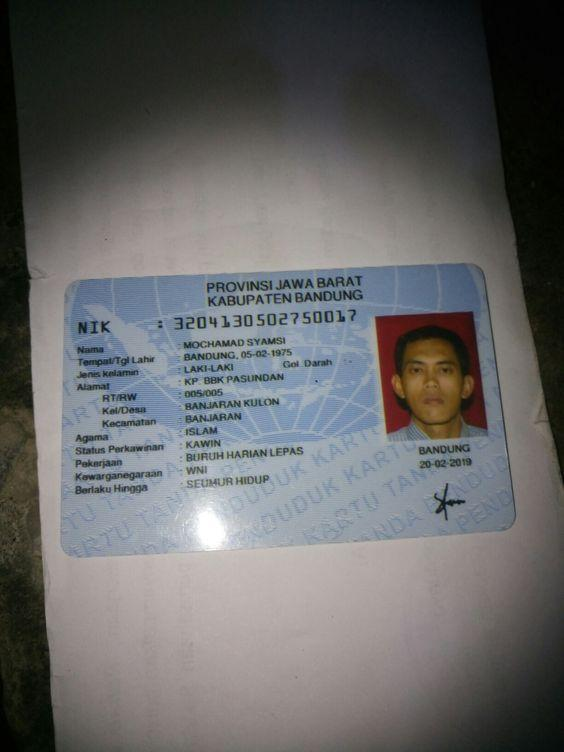ID-card: (65, 260, 518, 554)
